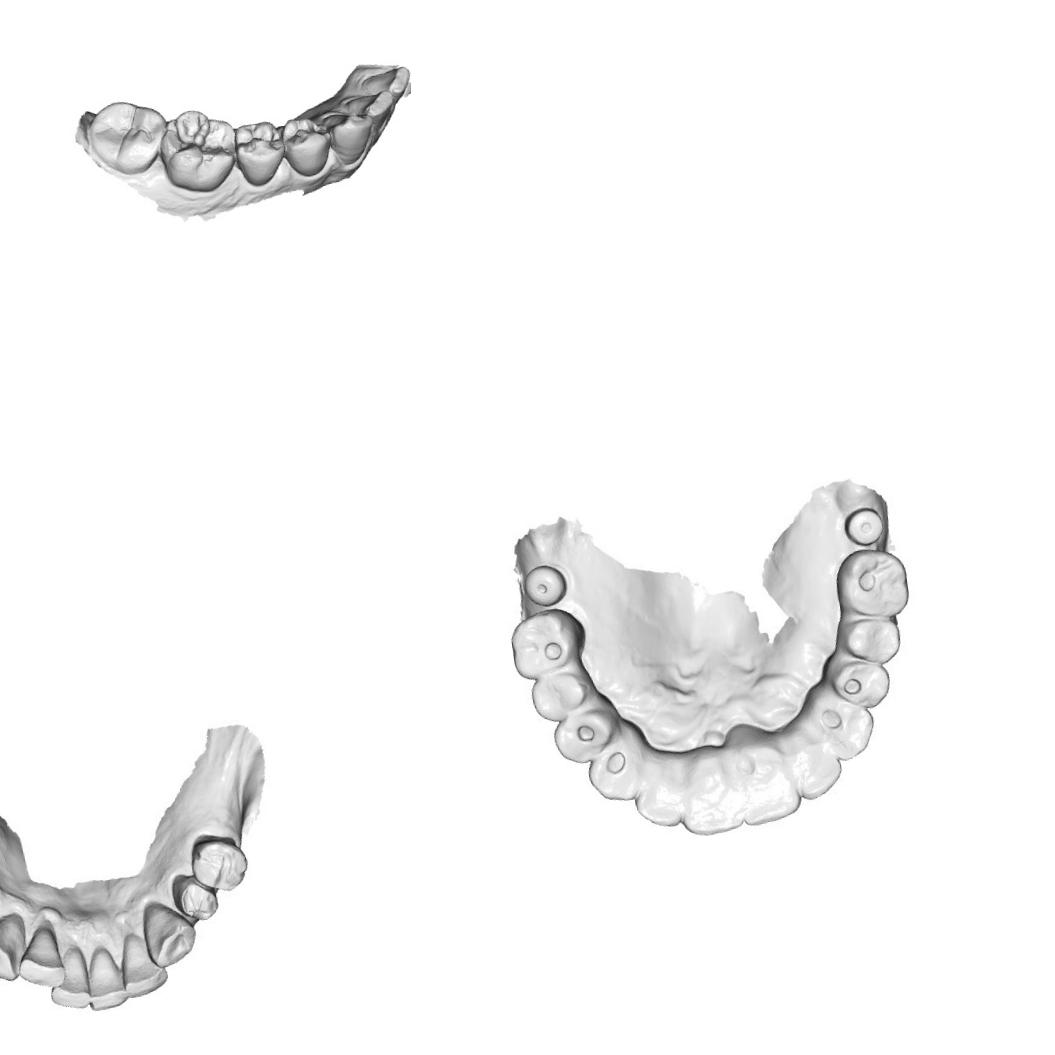canine: (138, 898, 202, 972), (813, 694, 880, 762), (318, 103, 379, 170), (585, 738, 645, 805), (0, 912, 36, 992)
implant: (519, 563, 571, 608), (842, 504, 889, 548)
incisor: (728, 744, 796, 829), (674, 760, 742, 842), (781, 724, 846, 806), (17, 923, 74, 1001), (82, 943, 134, 1015), (633, 757, 684, 828), (46, 942, 94, 1016), (114, 930, 170, 992), (338, 84, 400, 130), (354, 62, 411, 104)
molar: (152, 101, 247, 201), (80, 93, 174, 182), (830, 541, 917, 622), (507, 604, 592, 679)
premolar: (182, 829, 258, 898), (228, 114, 290, 192), (551, 704, 620, 768), (276, 111, 336, 182), (162, 866, 228, 929), (528, 669, 596, 725), (845, 610, 905, 666), (838, 657, 890, 710)
